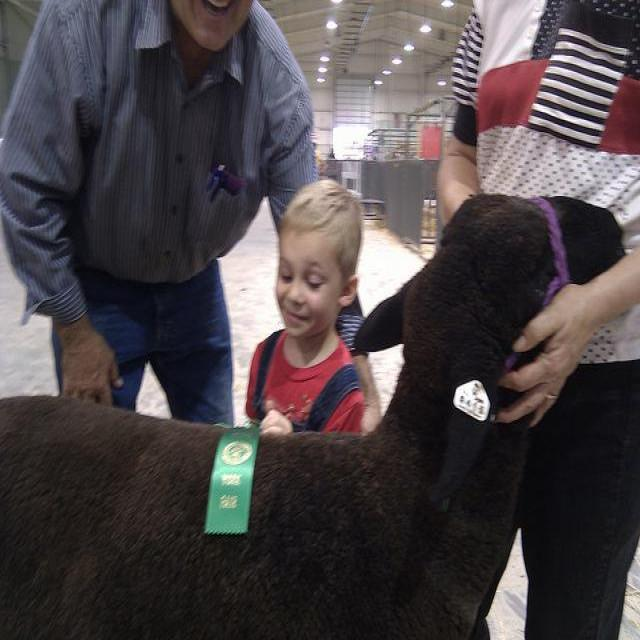Sheep: (3, 190, 625, 634)
